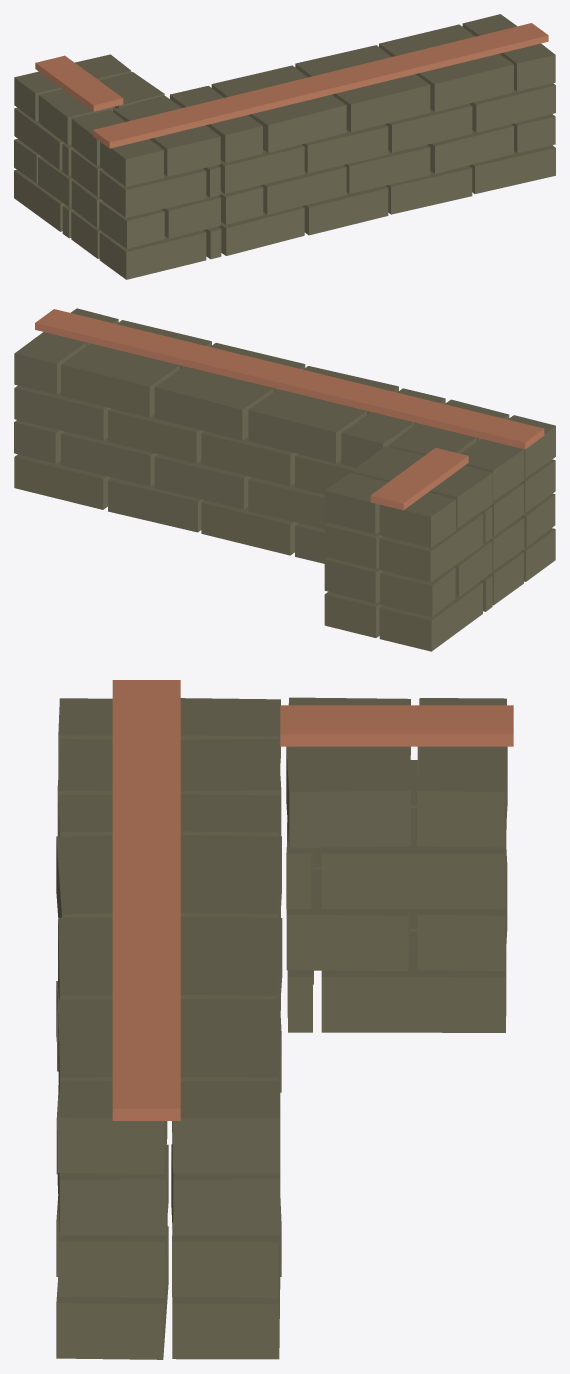
Rendered from SM_SacosRemate_v3_Tablon_e0_Sano_LOD0.fbx.
3 views of the same model, one above another, from view 1: azimuth 30°, elevation 25°; view 2: azimuth 150°, elevation 25°; view 3: azimuth 270°, elevation 25° (orthographic). The views are drawn at different scales.
Visible parts, largest first — view 1: SM_sacos_piezas_v32_LOD0; view 2: SM_sacos_piezas_v32_LOD0; view 3: SM_sacos_piezas_v32_LOD0.
Boxes of the visible parts, bbox=[...] form: SM_sacos_piezas_v32_LOD0: bbox=[14, 14, 555, 279]; SM_sacos_piezas_v32_LOD0: bbox=[14, 308, 555, 651]; SM_sacos_piezas_v32_LOD0: bbox=[56, 680, 513, 1359].
Size of the model in its own units: 4.46 by 1.24 by 2.01.
